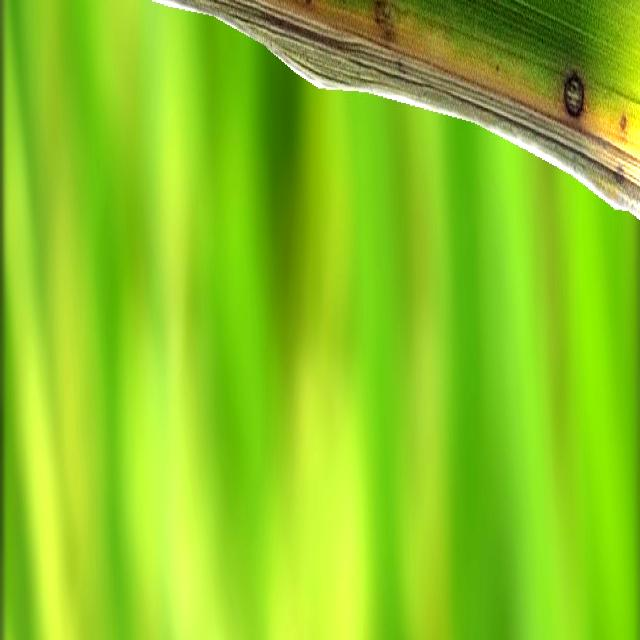LEAF BLAST: (564, 72, 584, 117)
